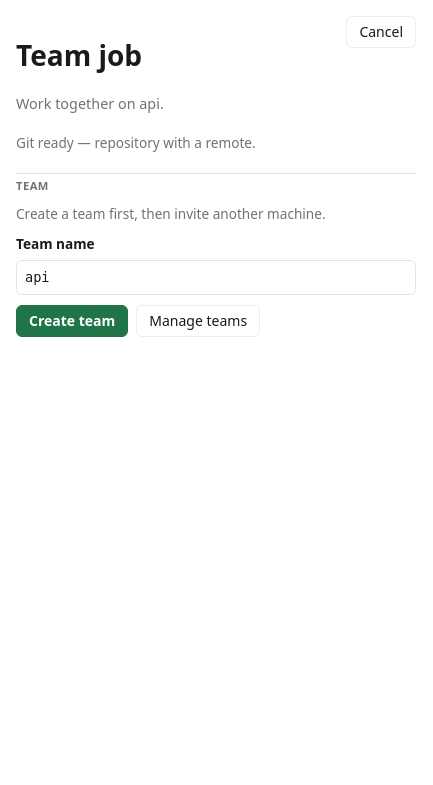
Scenario: TeamJobCreateSheet › dissolves a provisional team when the sheet unmounts without Cancel
Check: the element with test id "team-job-no-team" is shown, box [16, 173, 416, 337]
Click the button "Create team". click: click(72, 321)
box: [16, 305, 128, 337]
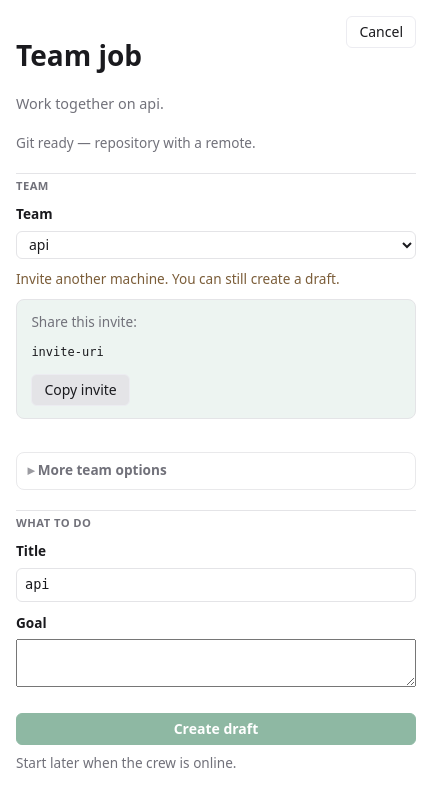
Check: the message "Share this invite: invite-uri Copy invite" is shown, box [16, 298, 416, 419]
